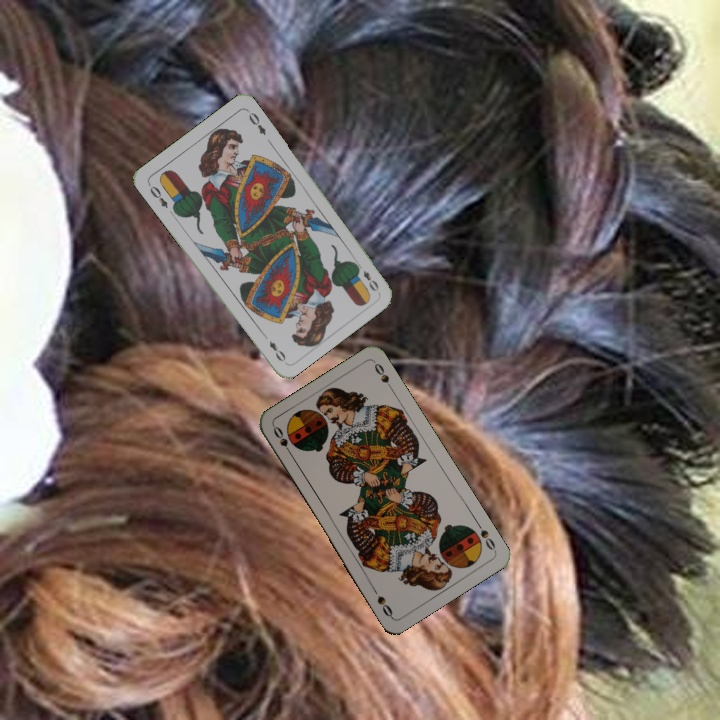EO: (352, 259, 382, 294), (144, 180, 171, 211)
SO: (269, 422, 296, 459), (472, 518, 499, 554)
